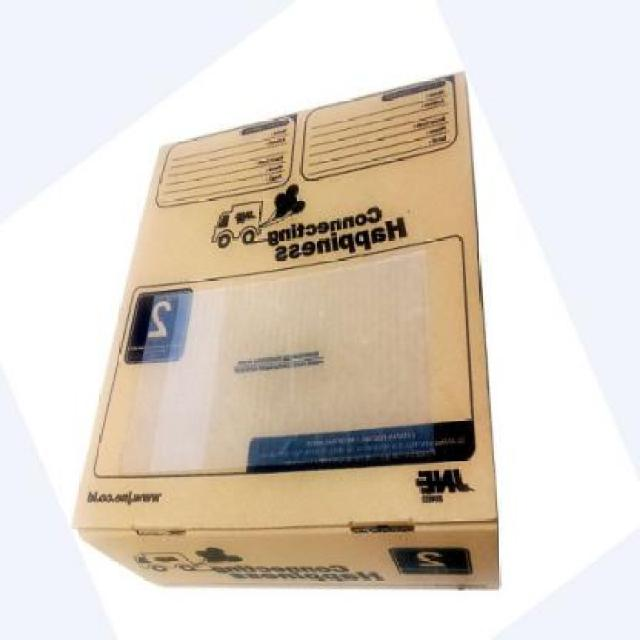cardboxes: (79, 71, 503, 589)
